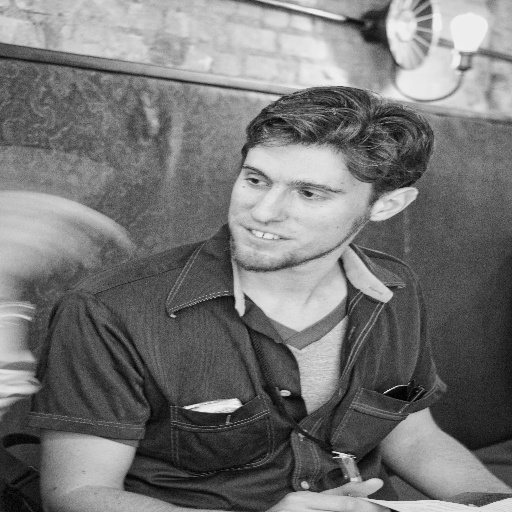hand: (261, 477, 393, 511)
